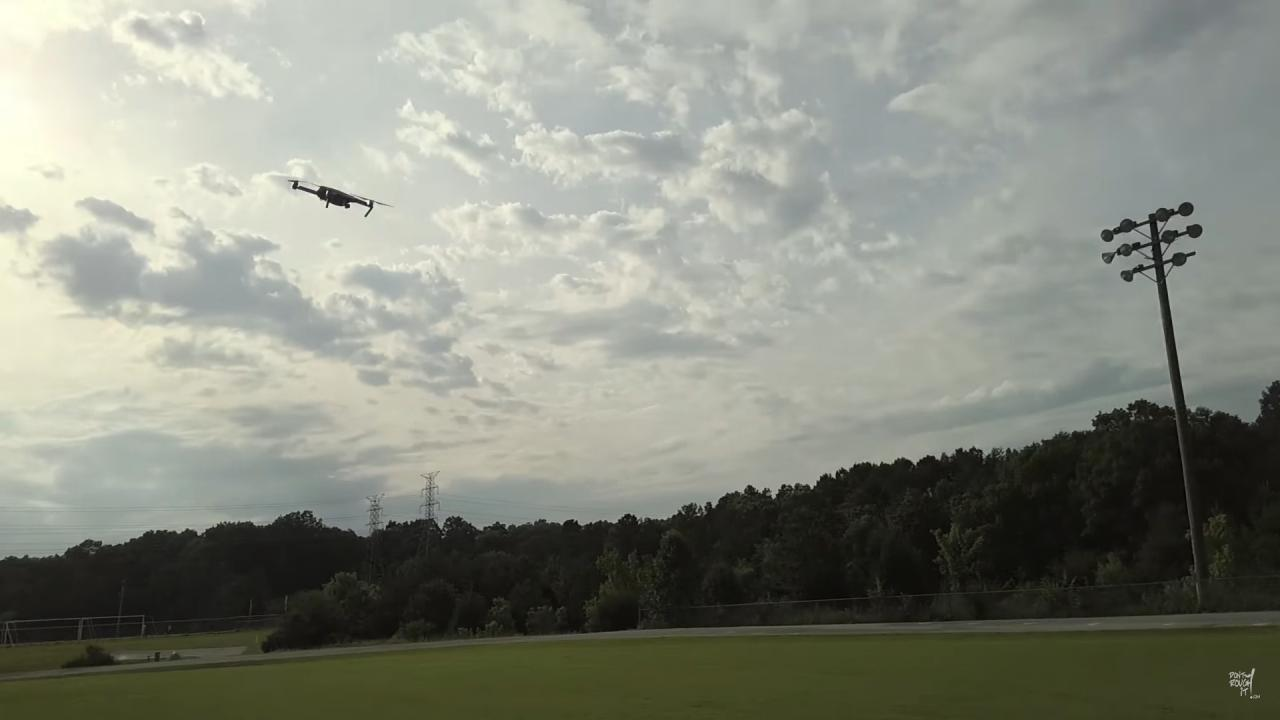Drone: (268, 170, 398, 228)
